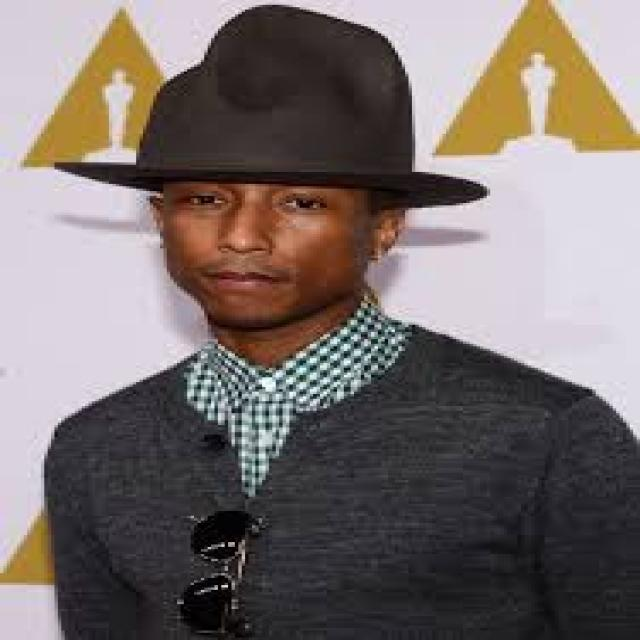hat: (48, 2, 494, 337)
